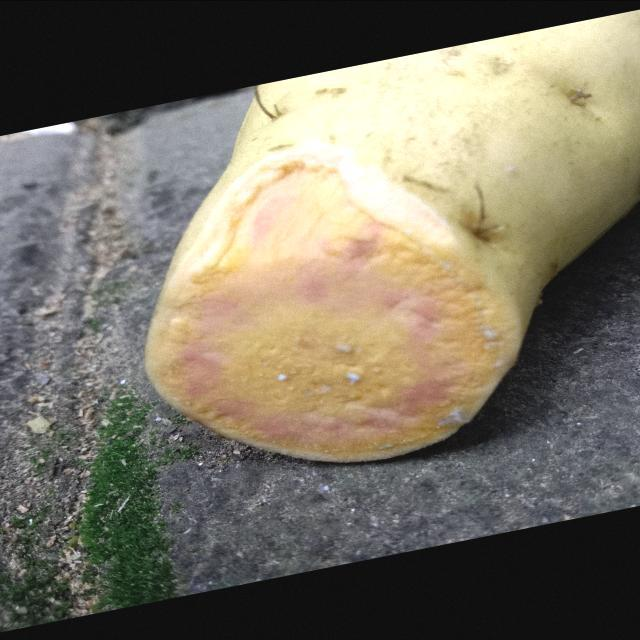Healthy Sweet Potato: (147, 160, 517, 460)
